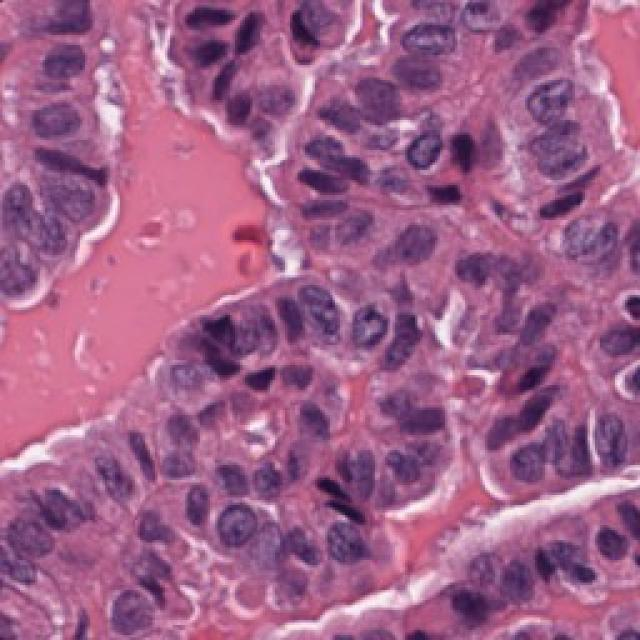abnormal: (18, 450, 103, 553), (328, 285, 415, 375), (478, 409, 552, 514), (197, 481, 267, 571), (89, 577, 182, 640), (230, 70, 320, 135), (550, 203, 623, 280), (234, 266, 289, 366), (577, 402, 640, 485), (318, 508, 385, 585), (520, 130, 608, 185), (32, 162, 107, 223), (515, 64, 583, 128), (17, 92, 85, 153), (341, 283, 391, 360), (401, 17, 471, 58)
